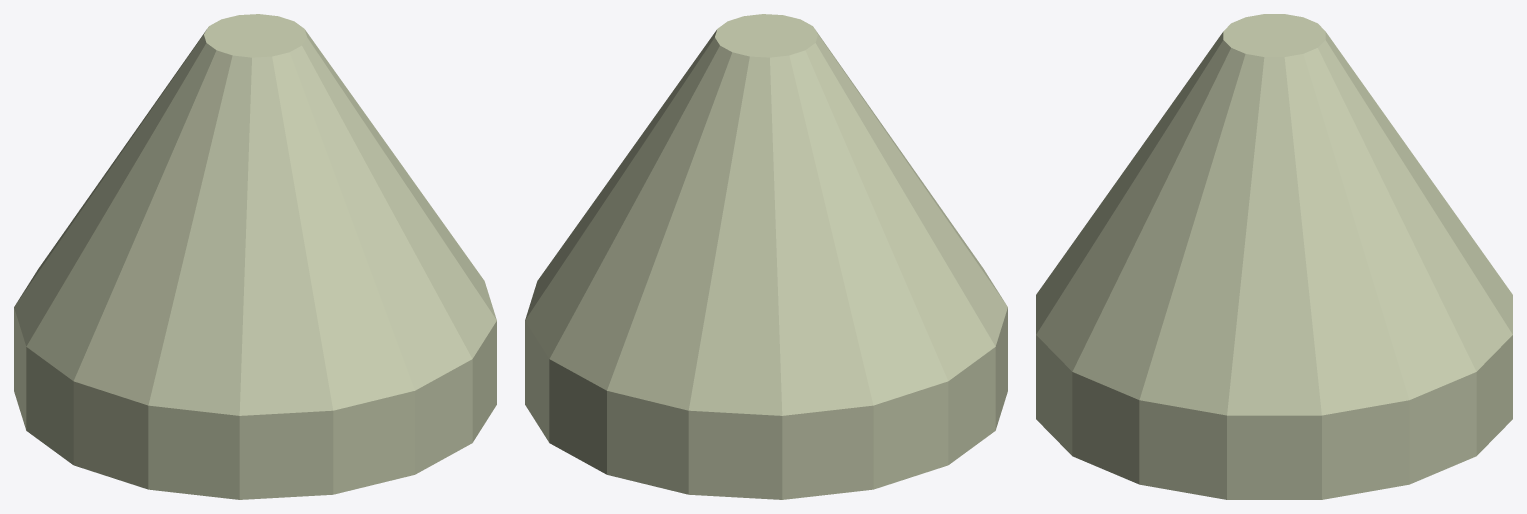
The model's file is petra_docking_port_s0p5_1_male_collider.obj.
3 views of the same model, side by side, from view 1: azimuth 30°, elevation 25°; view 2: azimuth 150°, elevation 25°; view 3: azimuth 270°, elevation 25° (orthographic).
Visible parts, largest first — view 1: collider; view 2: collider; view 3: collider.
Part boxes in pixels (bbox=[...]): collider: bbox=[14, 14, 496, 499]; collider: bbox=[525, 14, 1007, 499]; collider: bbox=[1036, 14, 1512, 499].
Size of the model in its own units: 0.8317 by 0.7 by 0.8317.
